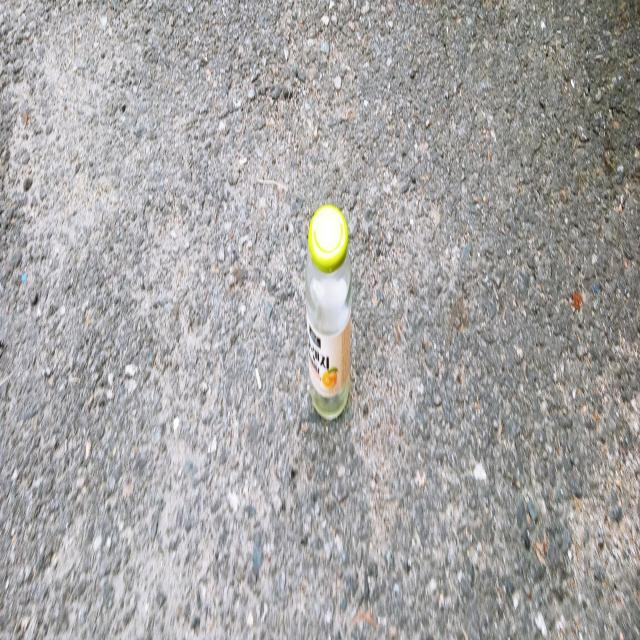glass: (305, 203, 352, 418)
